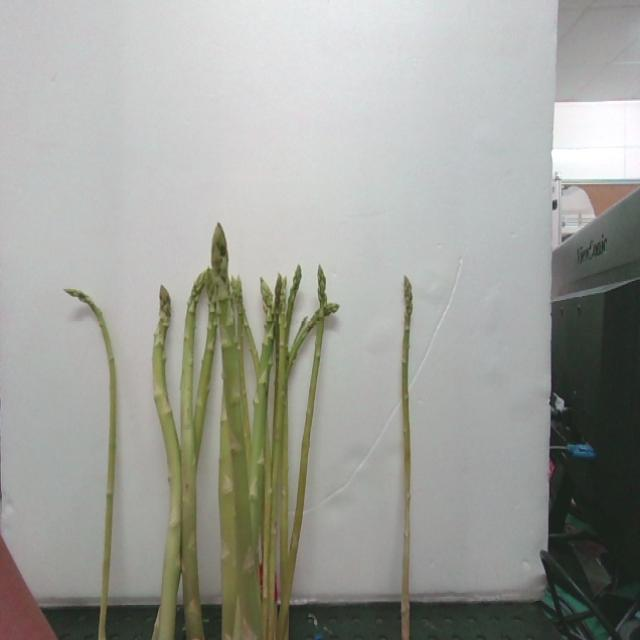aspargus: (211, 224, 263, 640), (63, 289, 116, 640), (151, 287, 184, 640), (400, 277, 415, 640)
